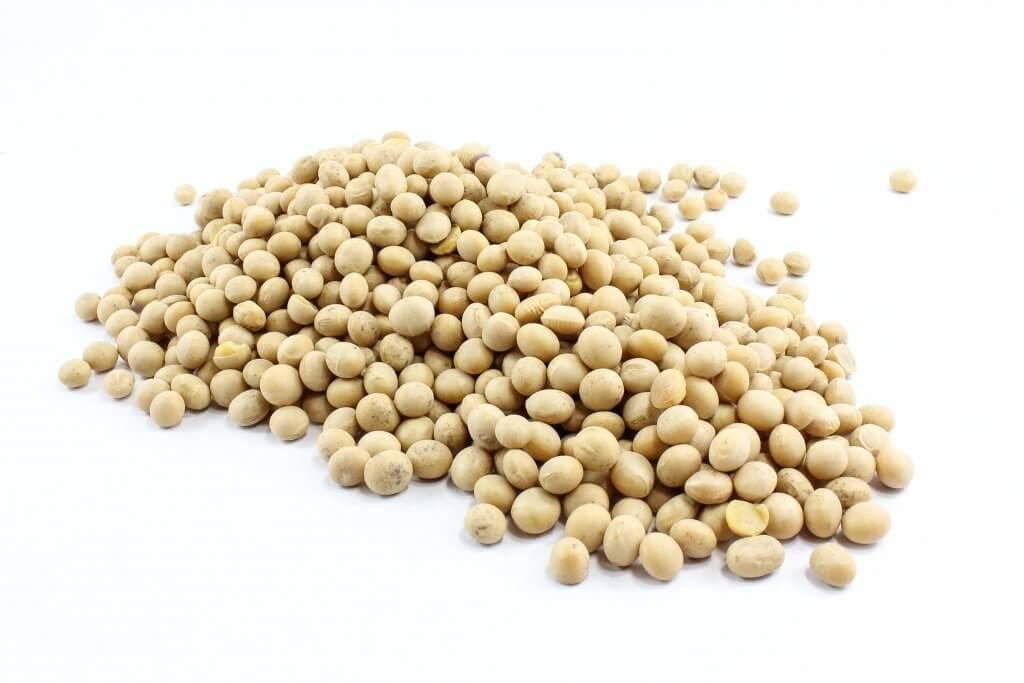soy beans: (58, 130, 914, 588)
